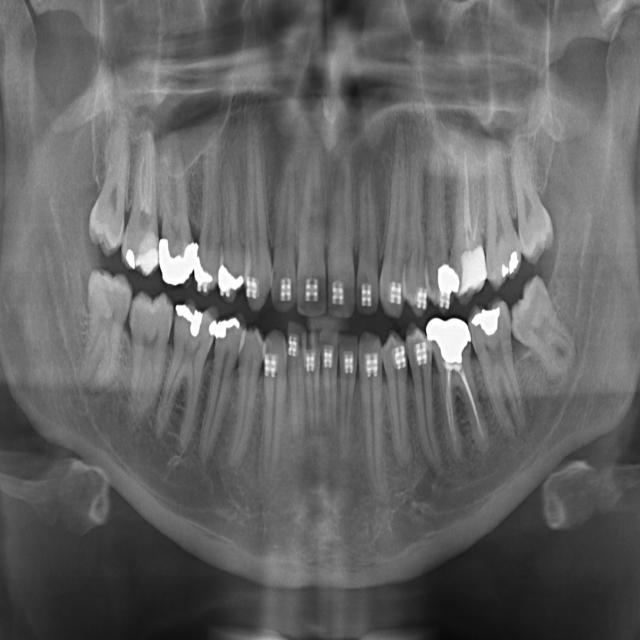AmalgamRestoration: (424, 308, 474, 372), (156, 246, 198, 290), (470, 298, 507, 338), (436, 254, 462, 304), (174, 298, 206, 338), (207, 314, 241, 344), (217, 261, 243, 300), (499, 241, 522, 284), (193, 258, 213, 294), (122, 241, 138, 277)
CompositeResinRestoration: (458, 219, 487, 298)
DentalCaries: (171, 304, 205, 416)
ImpactedTooth: (510, 275, 576, 406), (86, 255, 133, 378)
Overhang: (188, 229, 202, 254), (158, 227, 170, 251)
RootCanalTreatment: (441, 366, 489, 486), (132, 95, 162, 234), (451, 132, 485, 244)
